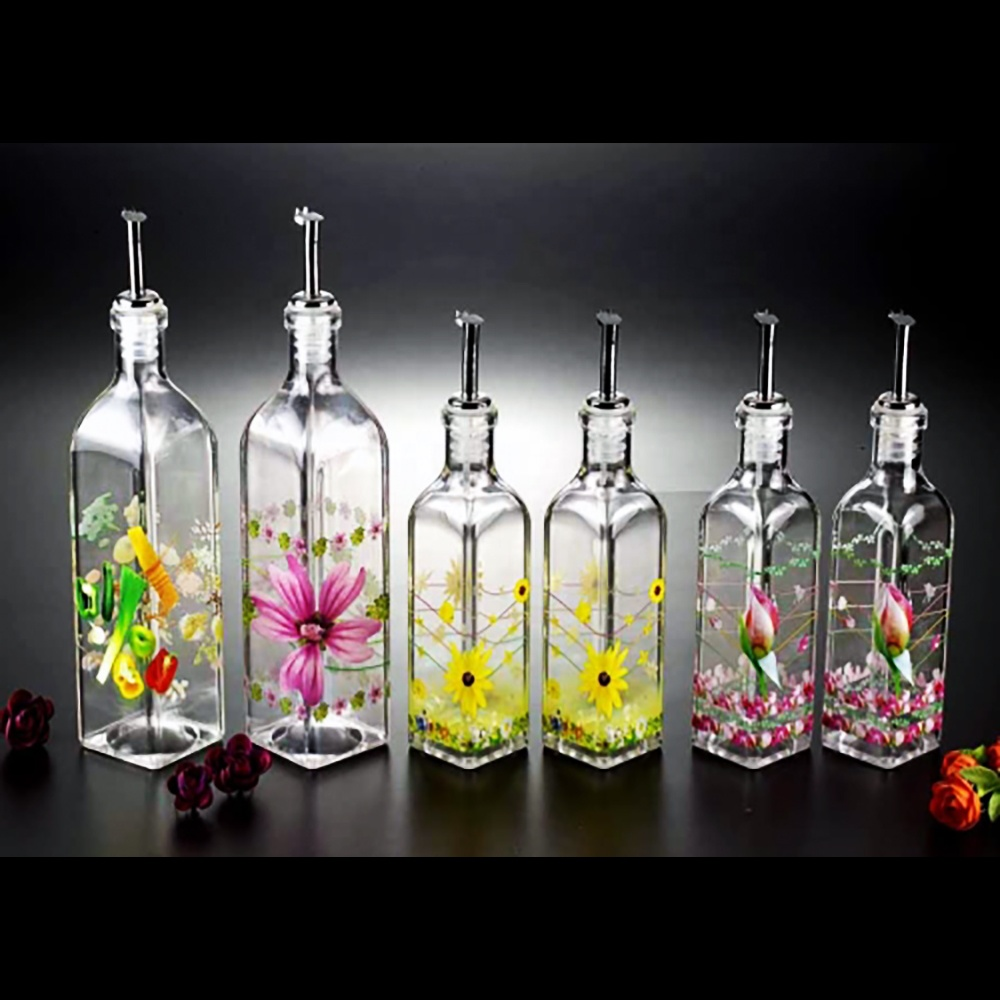glass_bottleww: (200, 149, 407, 812), (48, 159, 242, 826), (366, 164, 545, 822), (644, 197, 819, 813), (799, 248, 979, 821), (522, 178, 674, 825)
